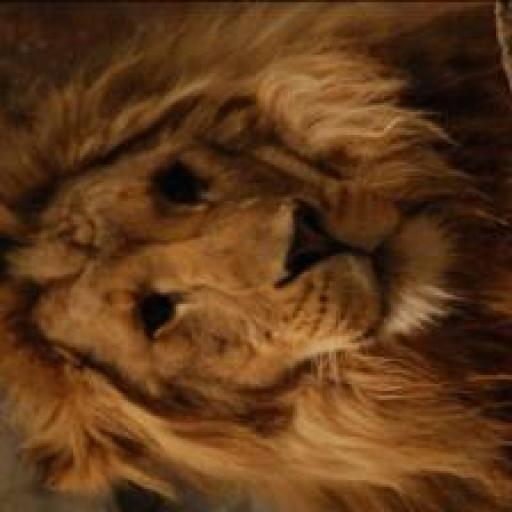lion: (4, 11, 511, 495)
